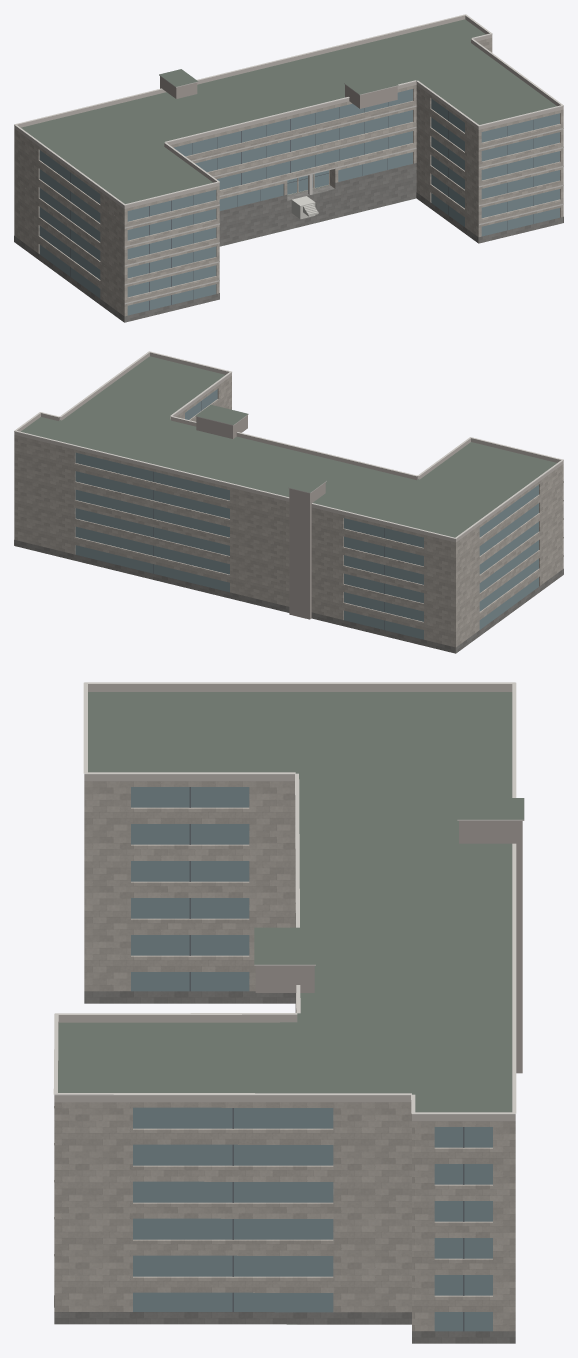
3 renders of one model, top to bottom at view 1: azimuth 30°, elevation 25°; view 2: azimuth 150°, elevation 25°; view 3: azimuth 270°, elevation 25°, orthographic. The views are drawn at different scales.
Visible parts, largest first — view 1: b946__roof, b946__wall, b946__glass, b946__base, b946__trim, b946__parapet, b946__wall2, b946__frame, b946__entranceStair; view 2: b946__wall, b946__roof, b946__glass, b946__parapet, b946__wall2, b946__base, b946__trim; view 3: b946__roof, b946__wall, b946__glass, b946__parapet, b946__base, b946__trim, b946__wall2.
Boxes of the visible parts, x1,y1,x2,y2 form: b946__roof: (21,19,556,245); b946__wall: (14,38,563,322); b946__glass: (39,89,559,315); b946__base: (14,163,563,322); b946__trim: (14,14,563,304); b946__parapet: (14,15,563,208); b946__wall2: (160,76,397,108); b946__frame: (70,102,533,310); b946__entranceStair: (291,196,318,219); b946__wall: (14,376,563,653); b946__roof: (21,356,556,537); b946__glass: (75,389,538,639); b946__parapet: (14,352,563,542); b946__wall2: (196,415,325,619); b946__base: (14,540,563,653); b946__trim: (14,351,563,556); b946__roof: (58,692,524,1324); b946__wall: (54,781,515,1331); b946__glass: (131,787,492,1331); b946__parapet: (54,684,515,1121); b946__base: (54,991,515,1343); b946__trim: (53,682,524,1255); b946__wall2: (255,821,522,1073).
Bounding box in the file's own units: 90.05 × 24.77 × 41.49.
Materials: 11 (2 with a texture image).
